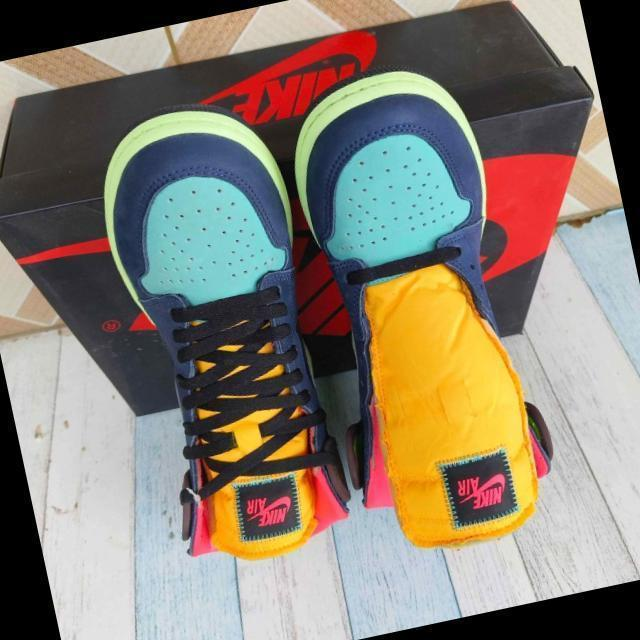nike original jordan 1: (266, 49, 568, 563), (81, 84, 362, 577)
